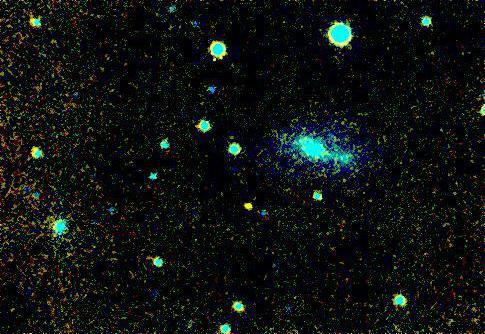star: (234, 192, 264, 222)
